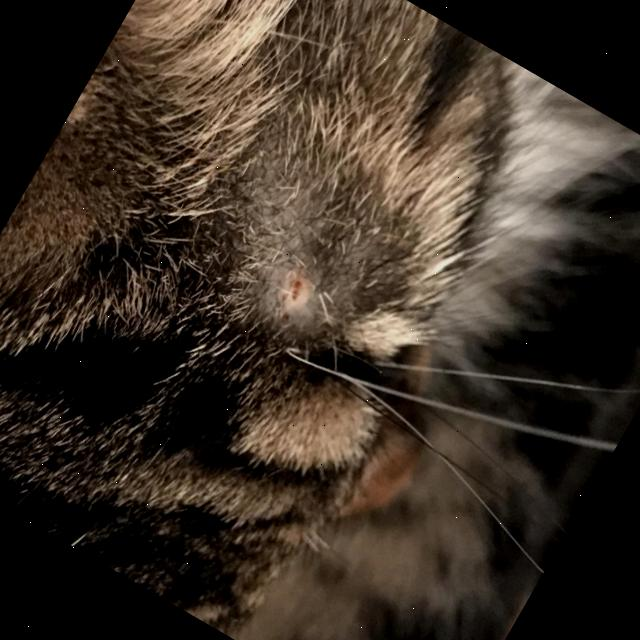cat-lump-and-bump: (266, 266, 324, 324)
